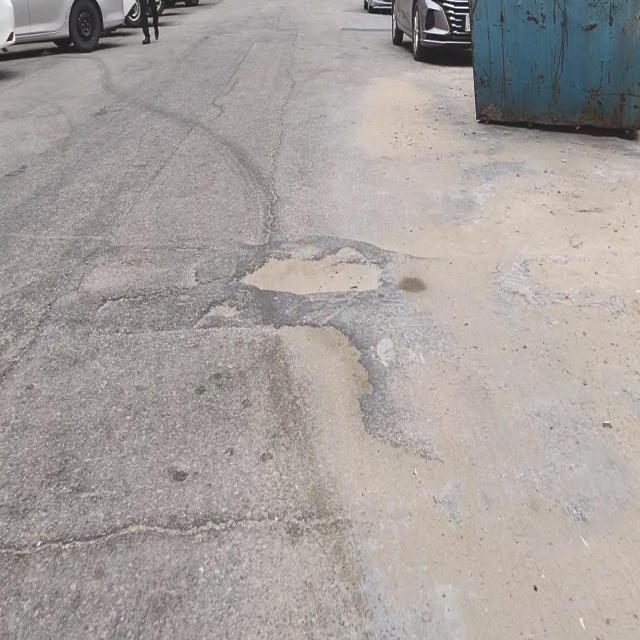Potholes: (247, 246, 382, 298)
